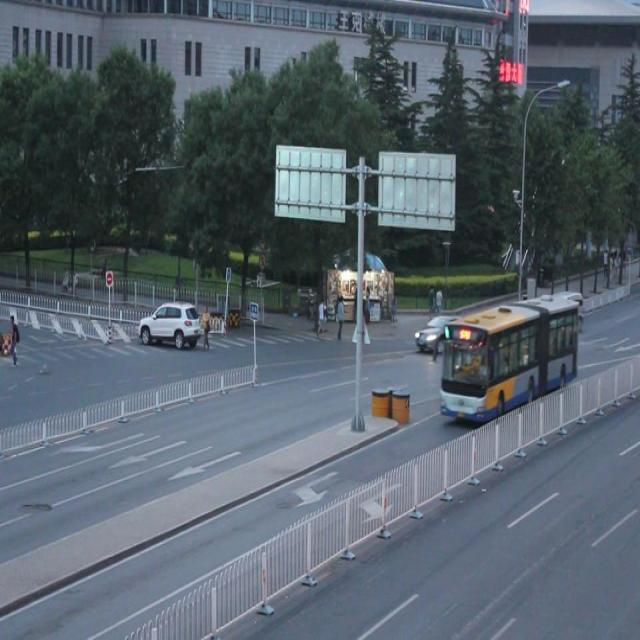car: (139, 299, 202, 349), (414, 316, 456, 348)
van: (441, 295, 576, 420)
